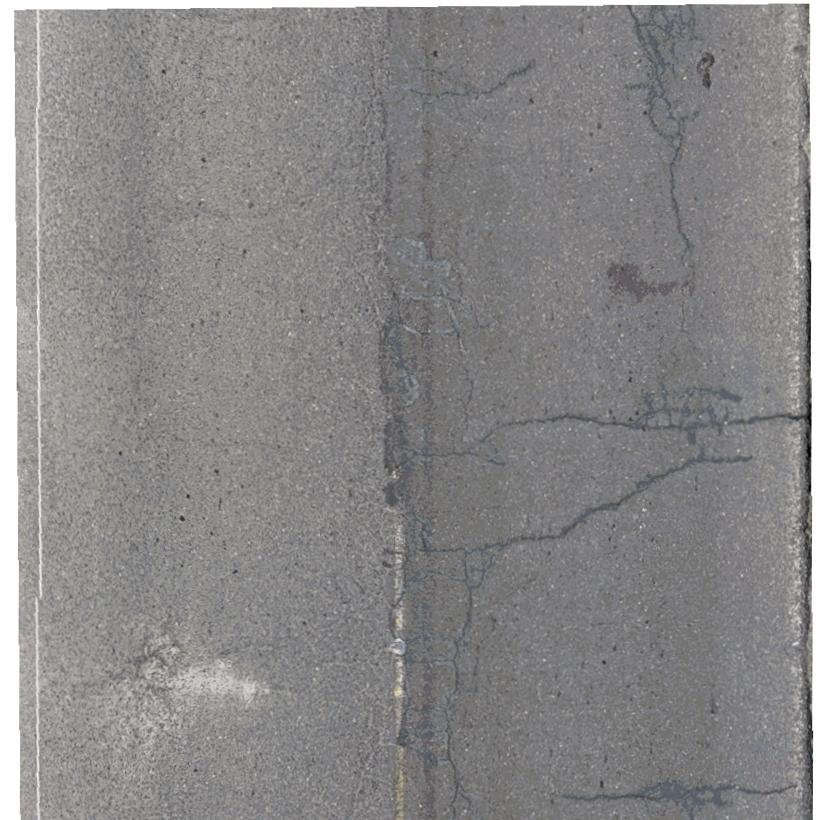GRIETA: (562, 779, 798, 802), (669, 146, 691, 264), (459, 63, 532, 96), (752, 413, 808, 422)
PIEL DE COCODRILO: (291, 34, 759, 819), (618, 4, 698, 148), (108, 620, 185, 749)
